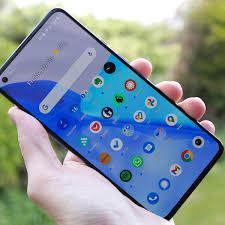Hand: (9, 54, 211, 216)
Smartphone: (4, 14, 225, 219)
